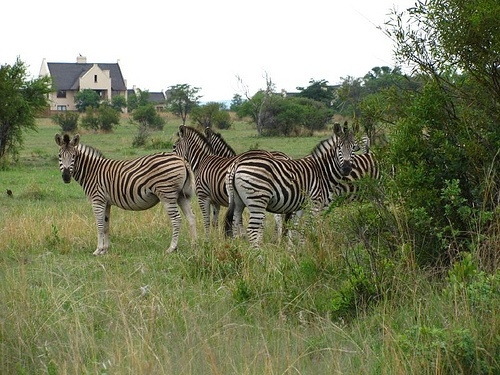zebra: (53, 132, 200, 257), (224, 120, 366, 248), (173, 123, 244, 239)
